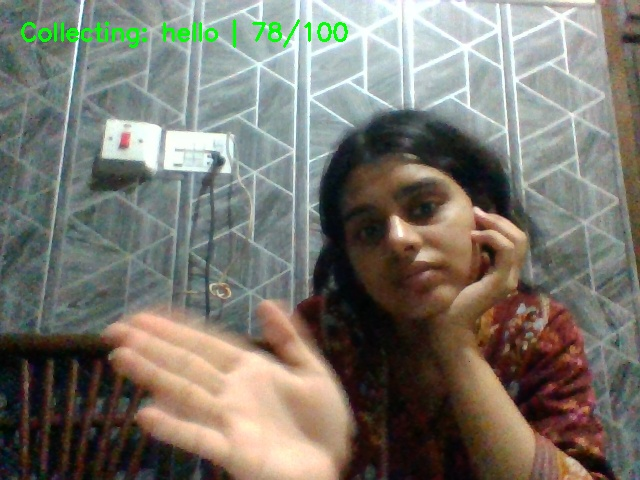hello: (91, 277, 366, 480)
